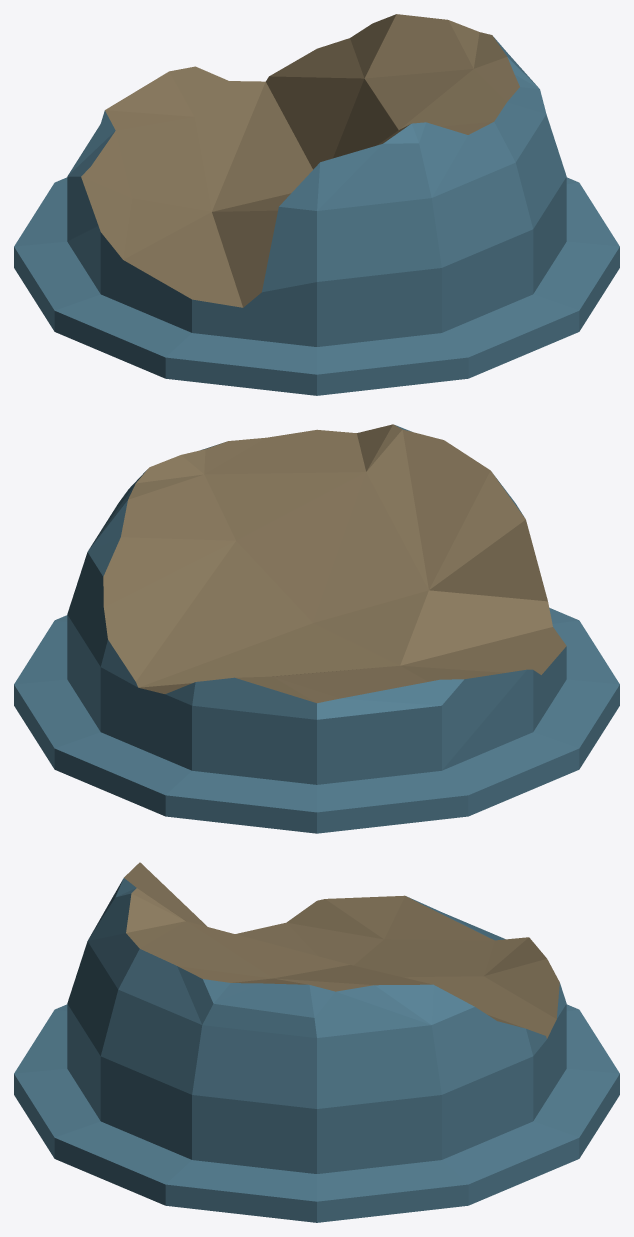
The model's file is SM_Bld_Roof_Cap_Destroyed_02.glb.
3 views of the same model, one above another, from view 1: azimuth 30°, elevation 25°; view 2: azimuth 150°, elevation 25°; view 3: azimuth 270°, elevation 25° (orthographic).
Visible parts, largest first — view 1: SM_Bld_Roof_Cap_Destroyed_02; view 2: SM_Bld_Roof_Cap_Destroyed_02; view 3: SM_Bld_Roof_Cap_Destroyed_02.
Part boxes in pixels (x1,y1,x2,y2): SM_Bld_Roof_Cap_Destroyed_02: [14, 14, 619, 395]; SM_Bld_Roof_Cap_Destroyed_02: [14, 424, 619, 833]; SM_Bld_Roof_Cap_Destroyed_02: [14, 862, 619, 1222].
Bounding box in the file's own units: 5.23 × 1.99 × 5.23.
1 material, 1 textured.
